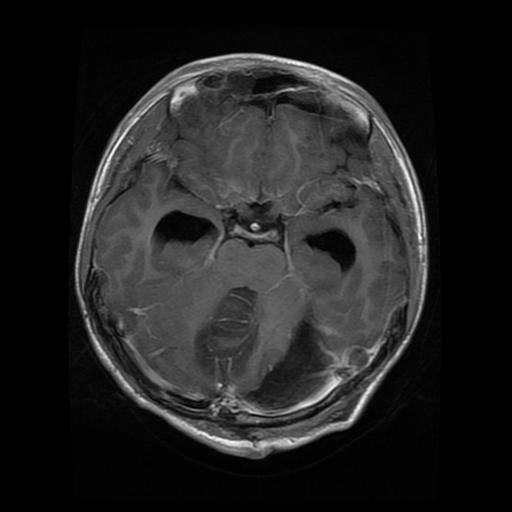Tumour-Glioma: (192, 282, 284, 375)
